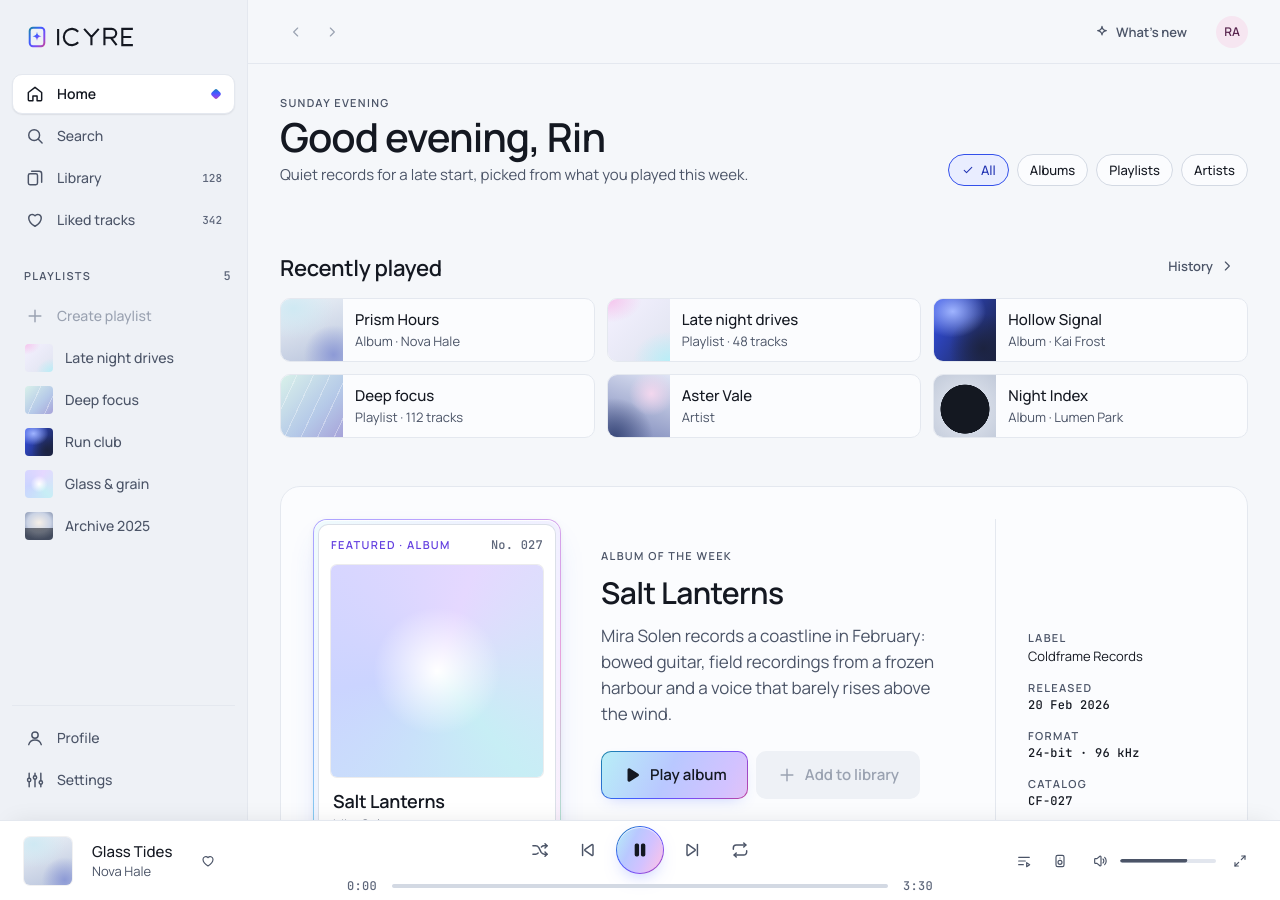
PlayerBar — Queue drawer, Like, Device picker, Expanded player › clears only upcoming tracks from the queue drawer
The image size is (1280, 900).
Click the button named "Queue": (1024, 860) top-left (1008, 844), bottom-right (1040, 876)
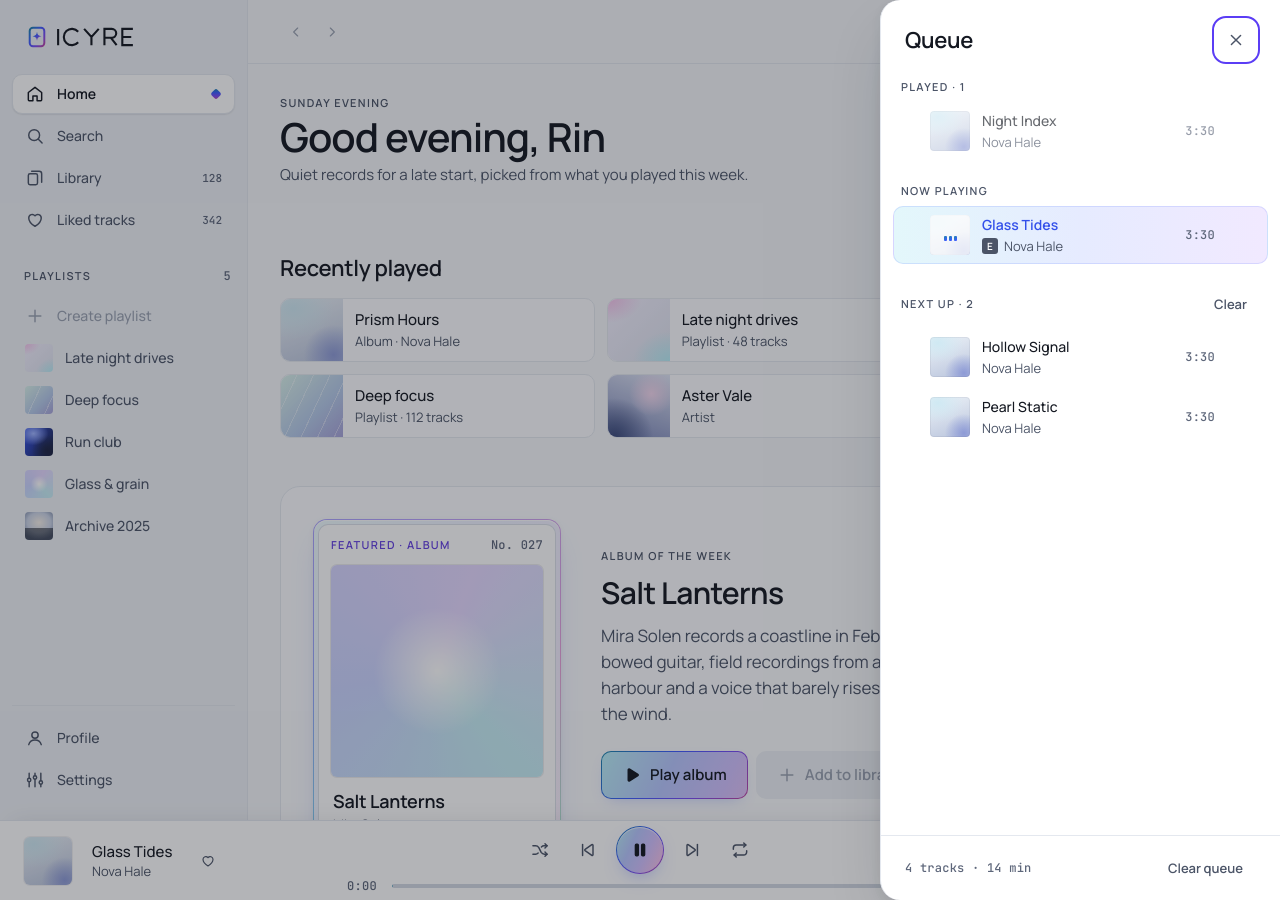
Click the button "Clear": (1230, 304) top-left (1201, 288), bottom-right (1260, 320)
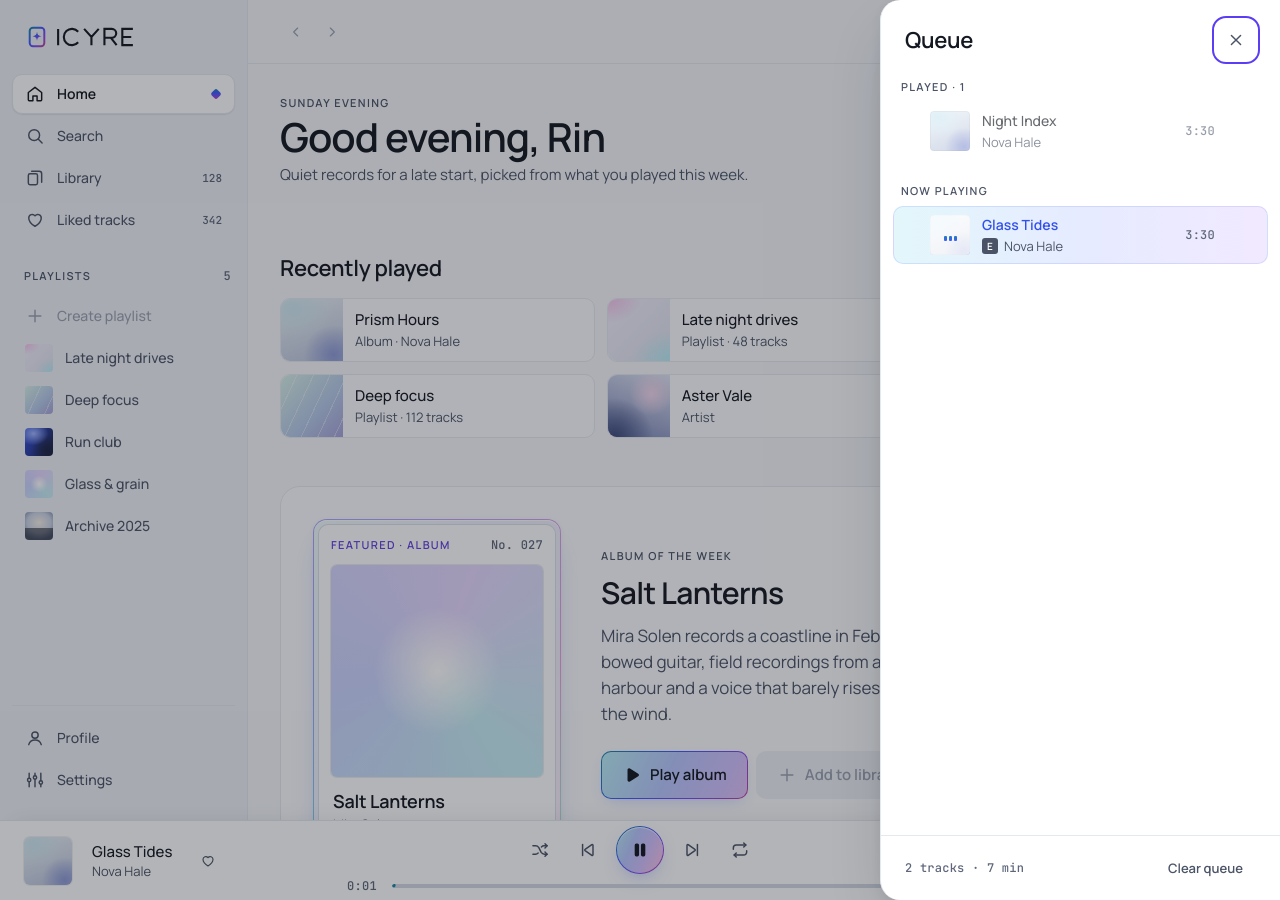
Result: the text "Next up" is gone
